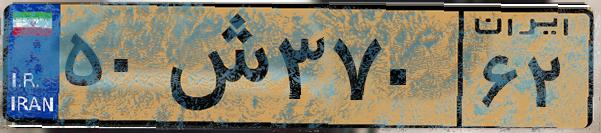0: (385, 28, 445, 110), (110, 28, 158, 98)
2: (525, 38, 570, 115)
3: (270, 28, 330, 110)
5: (57, 26, 110, 100)
6: (475, 38, 525, 113)
7: (330, 28, 385, 110)
ش: (158, 12, 270, 120)
